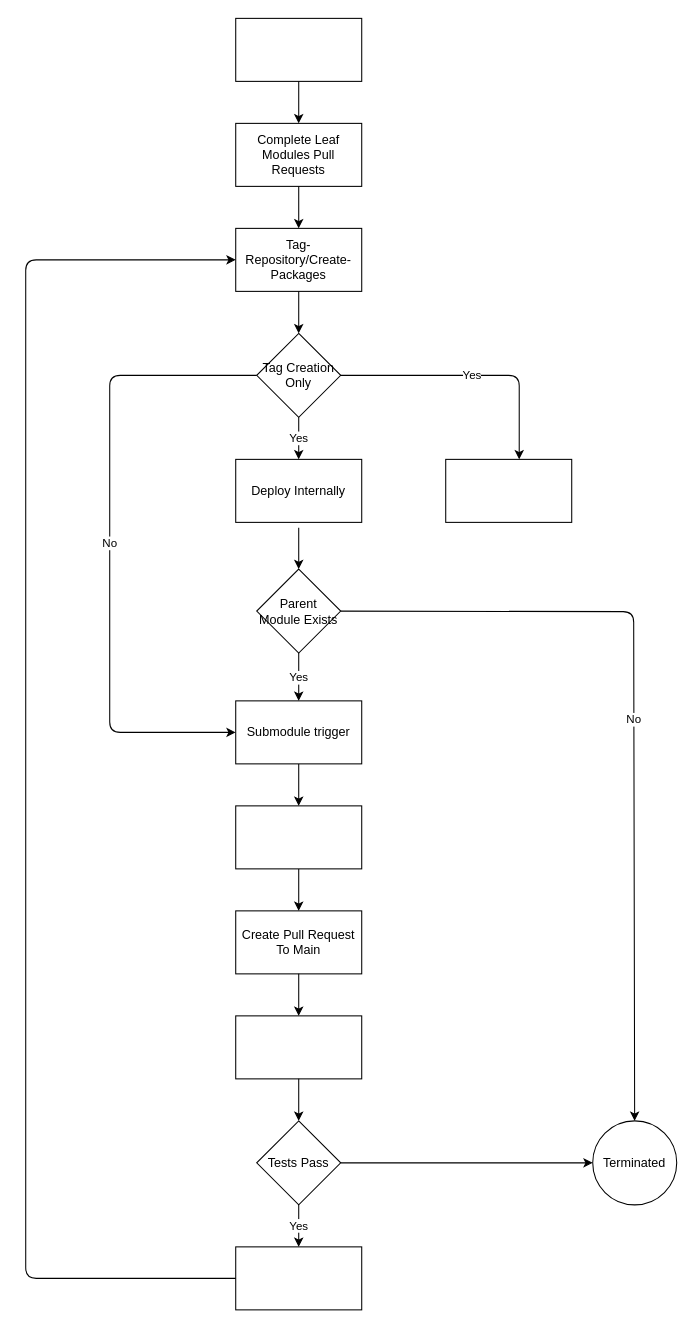
Image size: 695x1328. Some labels were removed from this diagram. Here are the shapes that lost their labels. From the top down, the centre of each, then its label:
At [298,49]: "Release Trigger".
At [508,490]: "Deploy externally".
At [298,837]: "Update dependency references and versions".
At [298,1047]: "Pull Request Tests Run".
At [298,1278]: "Pull Request Auto Completion".
